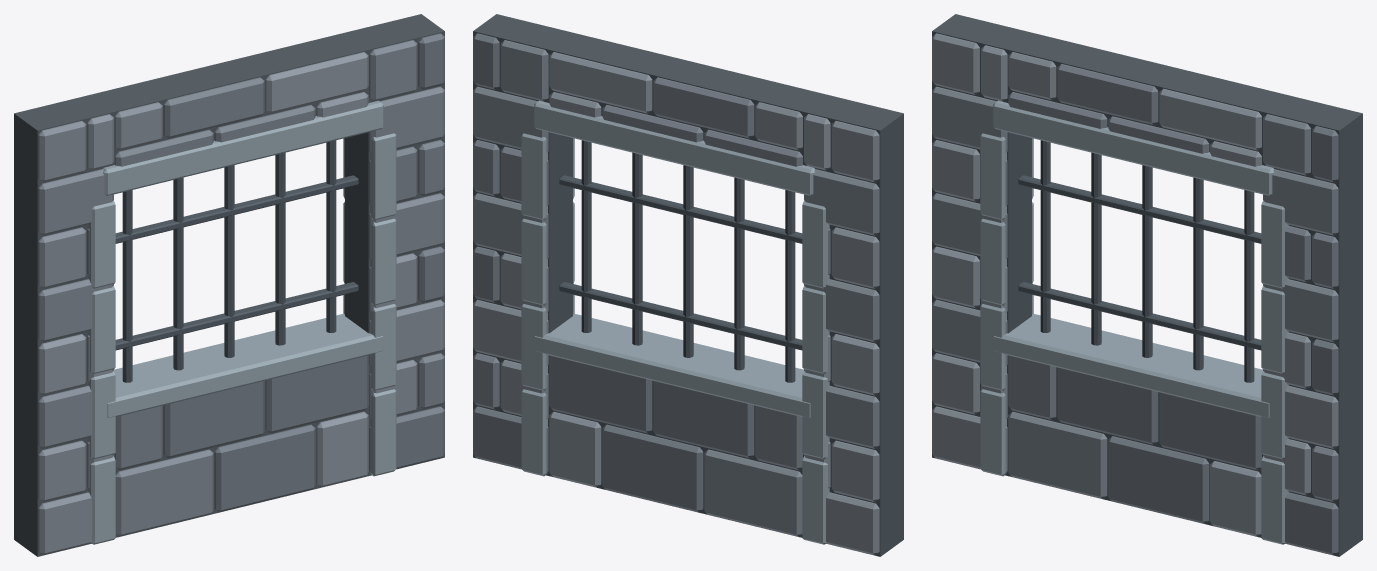
File: MOD_03_Wall_BarredWindow.glb
3 renders of one model, left to right at view 1: azimuth 30°, elevation 25°; view 2: azimuth 150°, elevation 25°; view 3: azimuth 330°, elevation 25°, orthographic.
Parts seen in each view (by area): view 1: MOD_03_Wall_BarredWindow; view 2: MOD_03_Wall_BarredWindow; view 3: MOD_03_Wall_BarredWindow.
Part boxes in pixels (left/top/right/bottom): MOD_03_Wall_BarredWindow: left=14, top=14, right=444, bottom=556; MOD_03_Wall_BarredWindow: left=473, top=14, right=903, bottom=556; MOD_03_Wall_BarredWindow: left=932, top=14, right=1362, bottom=556.
Size of the model in its own units: 4 by 4 by 0.55.
